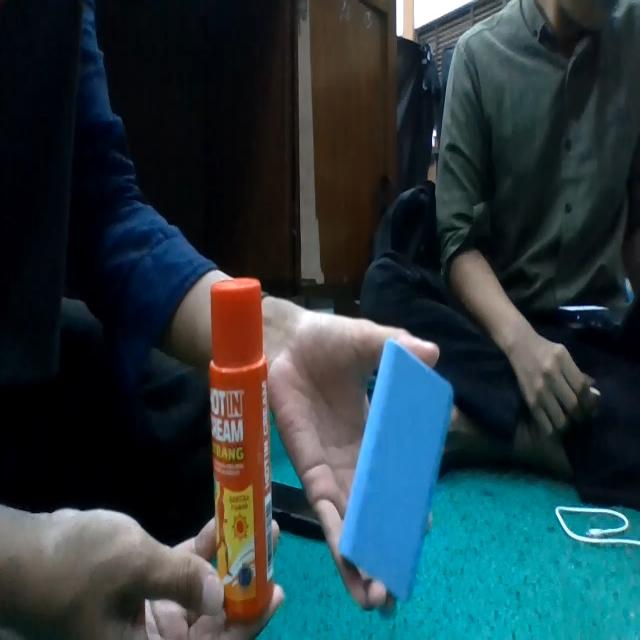Boncabe: (209, 279, 273, 621)
Powerbank: (338, 339, 453, 600)
